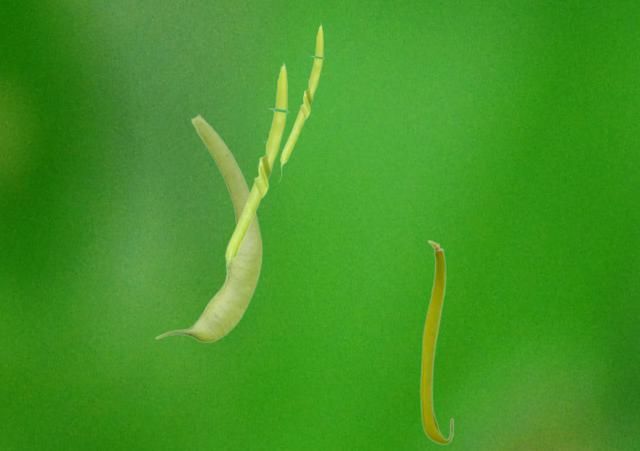french_bean: (154, 113, 262, 341), (222, 60, 289, 288), (278, 22, 324, 182), (419, 239, 453, 444)
